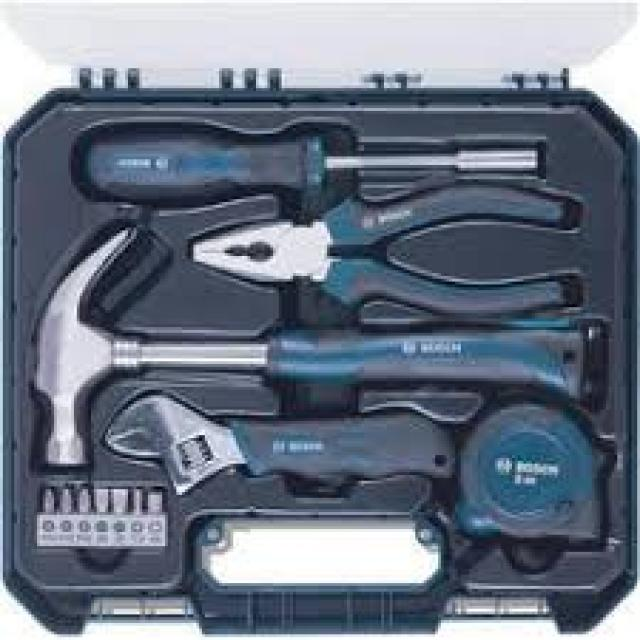wrench: (102, 381, 462, 500)
